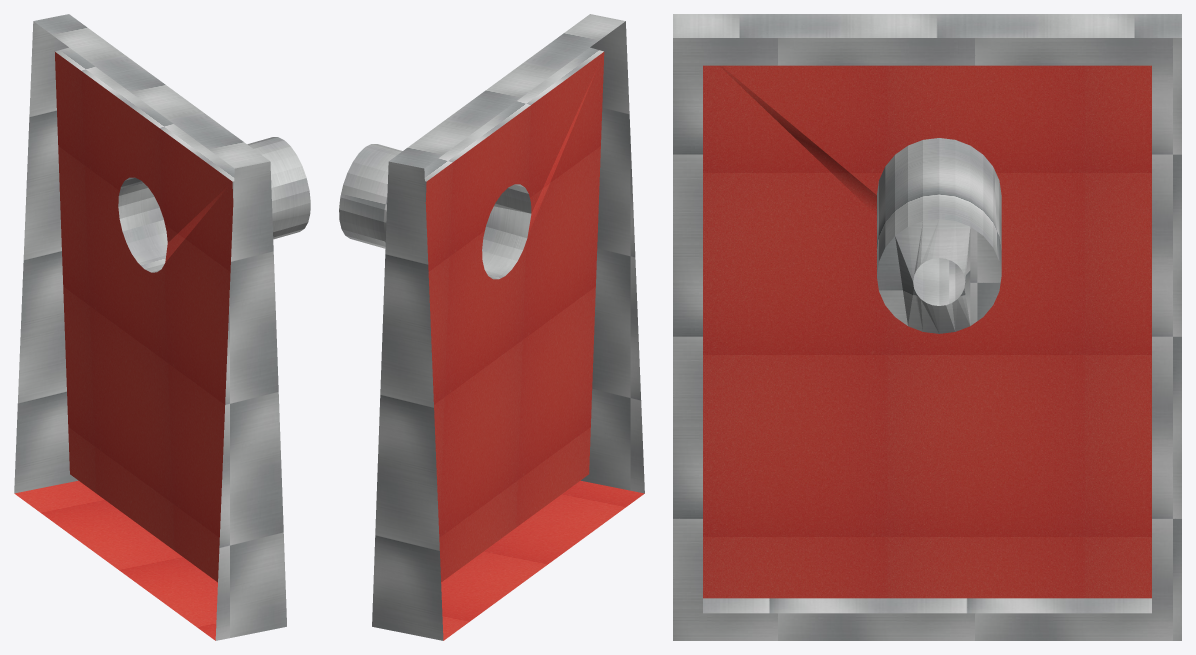
Rendered from Base_Palanca.obj.
The picture shows the model from 3 angles, left to right: view 1: azimuth 30°, elevation 25°; view 2: azimuth 150°, elevation 25°; view 3: azimuth 270°, elevation 25°; orthographic projection. The views are drawn at different scales.
Parts seen in each view (by area): view 1: basePalanca:Mesh01; view 2: basePalanca:Mesh01; view 3: basePalanca:Mesh01.
Boxes of the visible parts, x1=… form: basePalanca:Mesh01: x1=14, y1=14, x2=310, y2=640; basePalanca:Mesh01: x1=339, y1=14, x2=644, y2=640; basePalanca:Mesh01: x1=673, y1=14, x2=1181, y2=640.
Size of the model in its own units: 1.3 by 3.14 by 2.44.
